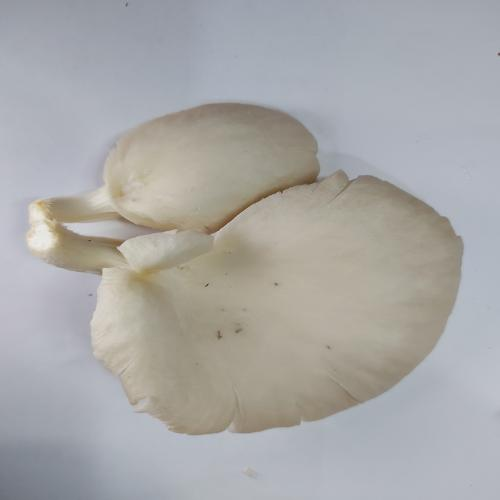Oyster Mushroom: (25, 101, 465, 436)
